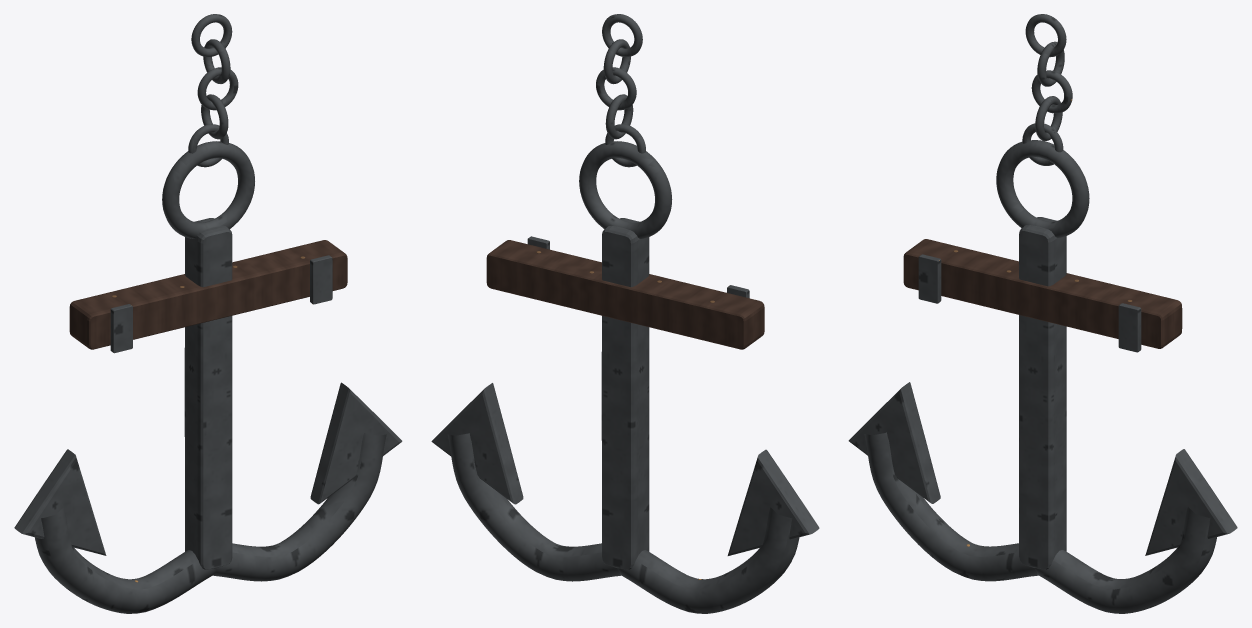
The picture shows the model from 3 angles, left to right: view 1: azimuth 30°, elevation 25°; view 2: azimuth 150°, elevation 25°; view 3: azimuth 330°, elevation 25°; orthographic projection.
Visible parts, largest first — view 1: forged iron, heartwood; view 2: forged iron, heartwood; view 3: forged iron, heartwood.
Part boxes in pixels (bbox=[...]): forged iron: bbox=[14, 14, 402, 613]; heartwood: bbox=[69, 240, 347, 349]; forged iron: bbox=[431, 14, 819, 613]; heartwood: bbox=[486, 240, 764, 349]; forged iron: bbox=[848, 14, 1237, 613]; heartwood: bbox=[903, 239, 1182, 348].
Size of the model in its own units: 0.8021 by 1.17 by 0.095.
Materials: 4 (2 with a texture image).
